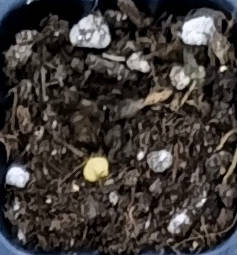pepper seed: (27, 65, 138, 248)
